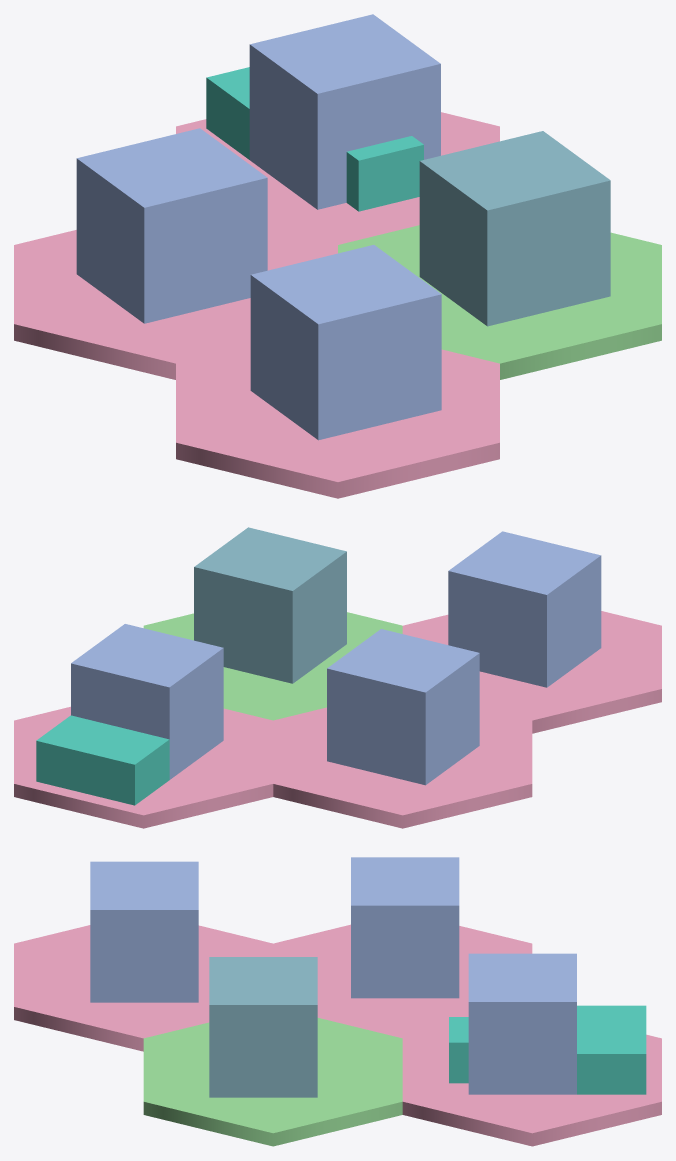
File: reexporthouse.glb
3 renders of one model, top to bottom at view 1: azimuth 30°, elevation 25°; view 2: azimuth 150°, elevation 25°; view 3: azimuth 270°, elevation 25°, orthographic. The views are drawn at different scales.
Visible parts, largest first — view 1: Box003, Box002.001, Box002, Cylinder001.001, Box002.002, Cylinder001, Cylinder003, Cylinder001.002, Box006, Box005; view 2: Box002, Box002.001, Box003, Cylinder001, Box002.002, Cylinder001.002, Cylinder001.001, Box005, Cylinder003; view 3: Cylinder003, Box002.001, Box002, Box002.002, Box003, Cylinder001.001, Cylinder001.002, Cylinder001, Box005, Box006.
Part boxes in pixels (<box>): Box003: <box>419,131,610,326</box>; Box002.001: <box>250,245,441,440</box>; Box002: <box>76,128,267,323</box>; Cylinder001.001: <box>176,345,499,498</box>; Box002.002: <box>249,14,440,209</box>; Cylinder001: <box>14,228,337,379</box>; Cylinder003: <box>338,225,661,379</box>; Cylinder001.002: <box>176,112,499,244</box>; Box006: <box>346,136,423,211</box>; Box005: <box>206,67,249,159</box>; Box002: <box>327,629,479,785</box>; Box002.001: <box>448,531,601,687</box>; Box003: <box>194,527,346,683</box>; Cylinder001: <box>273,707,532,828</box>; Box002.002: <box>71,624,223,779</box>; Cylinder001.002: <box>14,706,273,828</box>; Cylinder001.001: <box>402,611,661,733</box>; Box005: <box>36,715,169,805</box>; Cylinder003: <box>143,612,402,720</box>; Cylinder003: <box>143,1018,402,1146</box>; Box002.001: <box>90,861,198,1002</box>; Box002: <box>351,857,459,998</box>; Box002.002: <box>468,953,576,1094</box>; Box003: <box>209,957,317,1097</box>; Cylinder001.001: <box>14,925,273,1051</box>; Cylinder001.002: <box>402,1027,661,1146</box>; Cylinder001: <box>273,924,532,1038</box>; Box005: <box>577,1005,646,1094</box>; Box006: <box>449,1017,468,1083</box>.
Size of the model in its own units: 3.59 by 0.8007 by 4.44.
